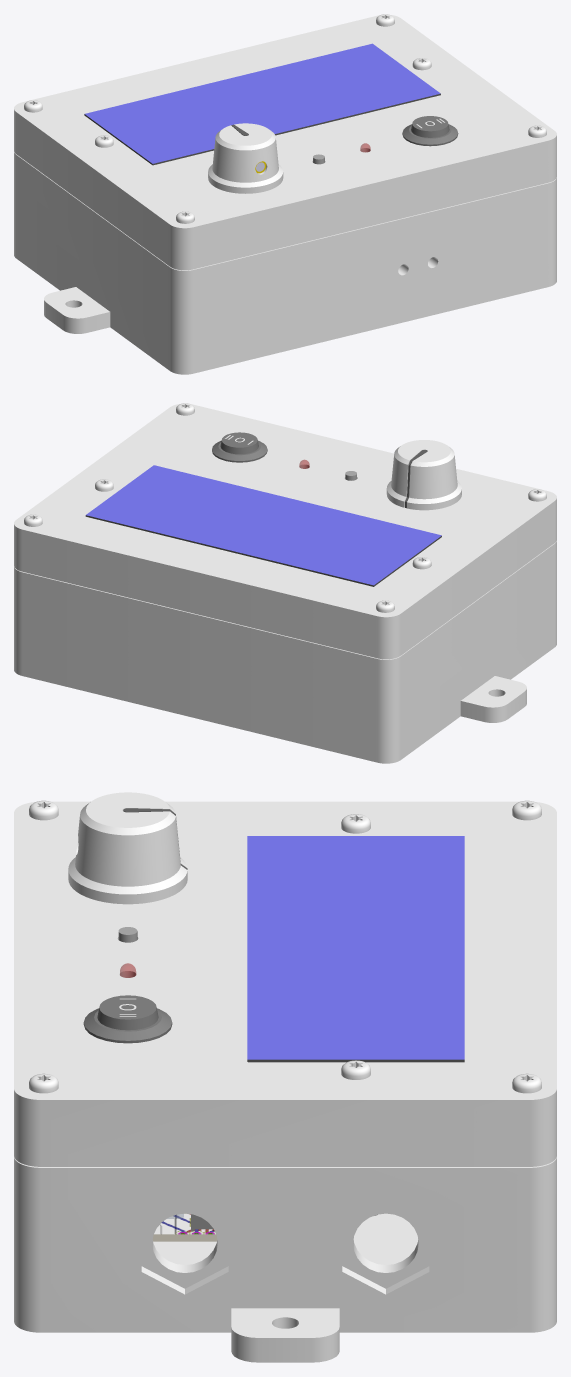
Rendered from Elektronik-Box.gltf.
3 views of the same model, one above another, from view 1: azimuth 30°, elevation 25°; view 2: azimuth 150°, elevation 25°; view 3: azimuth 270°, elevation 25° (orthographic). The views are drawn at different scales.
Parts seen in each view (by area): view 1: Box, Front-Panrl_1, ID479, group_3, group_17, ID65, ID16, group_4; view 2: Box, Front-Panrl_1, ID479, group_3, group_17, ID16, ID65, group_4; view 3: Front-Panrl_1, Box, group_3, ID479, group_17, ID771, ID831, ID819, ID65, group_4, ID16, ID2623.
Boxes of the visible parts, left/top/right/bottom form: Box: left=14, top=152, right=556, bottom=374; Front-Panrl_1: left=14, top=15, right=556, bottom=228; ID479: left=14, top=23, right=556, bottom=270; group_3: left=85, top=43, right=440, bottom=163; group_17: left=208, top=123, right=283, bottom=193; ID65: left=411, top=116, right=449, bottom=137; ID16: left=84, top=93, right=440, bottom=165; group_4: left=402, top=124, right=458, bottom=146; Box: left=14, top=541, right=556, bottom=763; Front-Panrl_1: left=14, top=404, right=556, bottom=617; ID479: left=14, top=408, right=556, bottom=659; group_3: left=86, top=465, right=441, bottom=585; group_17: left=386, top=440, right=461, bottom=510; ID16: left=85, top=515, right=441, bottom=586; ID65: left=220, top=432, right=258, bottom=454; group_4: left=212, top=440, right=267, bottom=462; Front-Panrl_1: left=14, top=801, right=556, bottom=1099; Box: left=14, top=1157, right=556, bottom=1362; group_3: left=247, top=836, right=464, bottom=1059; ID479: left=14, top=802, right=556, bottom=1166; group_17: left=68, top=792, right=187, bottom=904; ID771: left=153, top=1213, right=418, bottom=1264; ID831: left=141, top=1203, right=228, bottom=1294; ID819: left=342, top=1203, right=429, bottom=1294; ID65: left=97, top=995, right=158, bottom=1030; group_4: left=83, top=1008, right=172, bottom=1043; ID16: left=247, top=1059, right=464, bottom=1062; ID2623: left=154, top=1213, right=215, bottom=1234.
Bounding box in the file's own units: 0.156 × 0.0618 × 0.1.
Materials: 610 (7 with a texture image).
